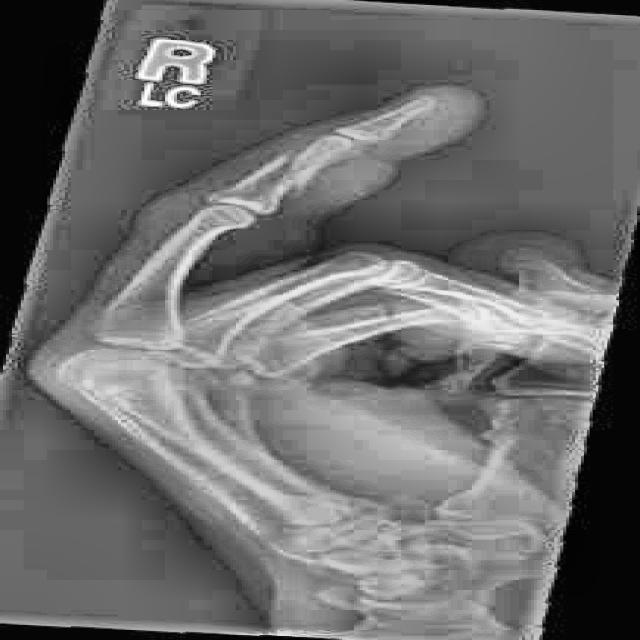fingers positive: (247, 143, 335, 206)
